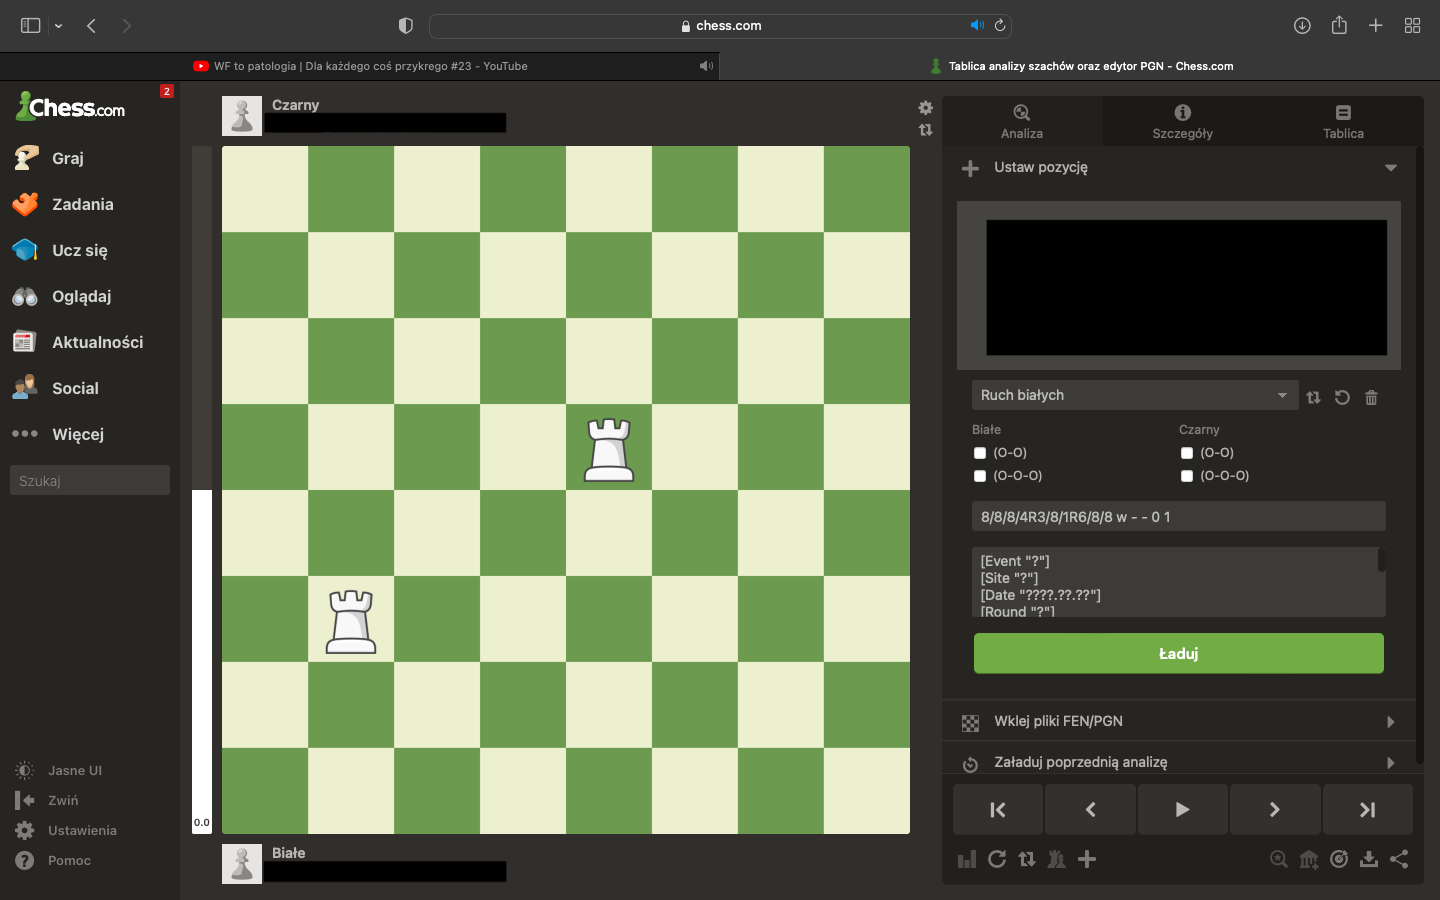white_rook: (582, 417, 636, 484), (324, 589, 378, 655)
